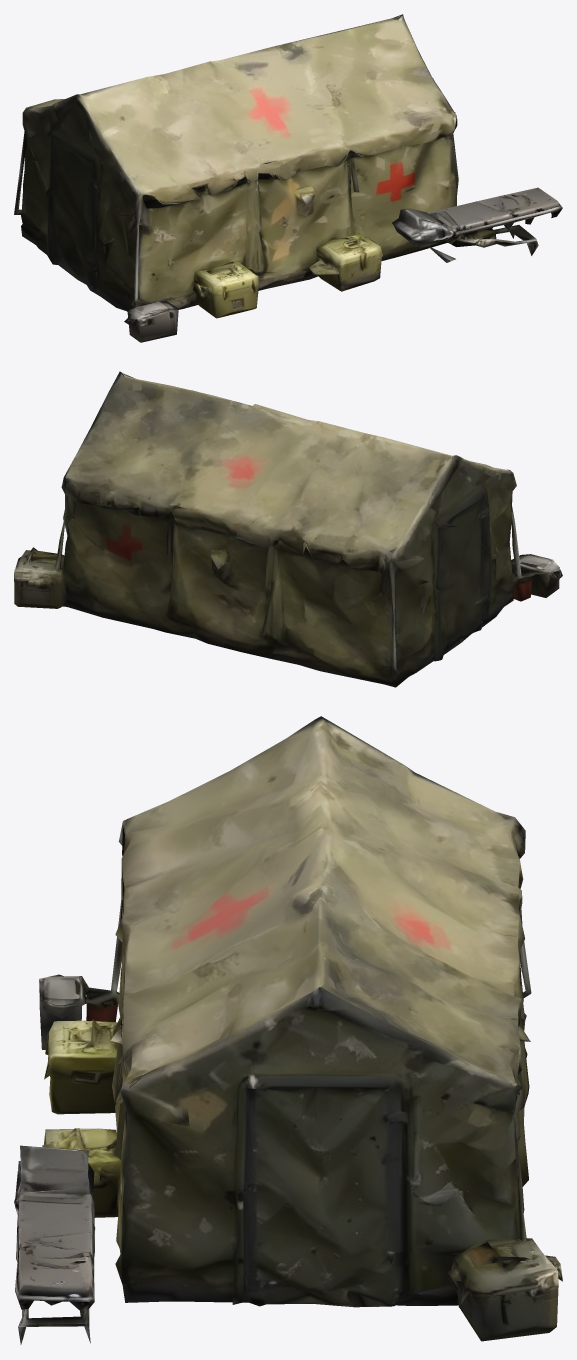
The model's file is b_infirmary.glb.
The picture shows the model from 3 angles, top to bottom: view 1: azimuth 30°, elevation 25°; view 2: azimuth 150°, elevation 25°; view 3: azimuth 270°, elevation 25°; orthographic projection. The views are drawn at different scales.
Parts seen in each view (by area): view 1: tripo_node_c1fb5052-4bf4-4587-9766-ee13a111f6f8; view 2: tripo_node_c1fb5052-4bf4-4587-9766-ee13a111f6f8; view 3: tripo_node_c1fb5052-4bf4-4587-9766-ee13a111f6f8.
Part boxes in pixels (left/top/right/bottom): tripo_node_c1fb5052-4bf4-4587-9766-ee13a111f6f8: left=14, top=14, right=562, bottom=342; tripo_node_c1fb5052-4bf4-4587-9766-ee13a111f6f8: left=14, top=371, right=562, bottom=687; tripo_node_c1fb5052-4bf4-4587-9766-ee13a111f6f8: left=14, top=716, right=562, bottom=1344.
Size of the model in its own units: 1 by 0.4249 by 0.6527.
Materials: 1 (1 with a texture image).
